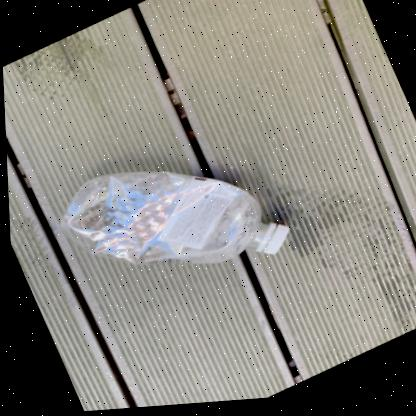Plastic: (56, 172, 285, 266)
